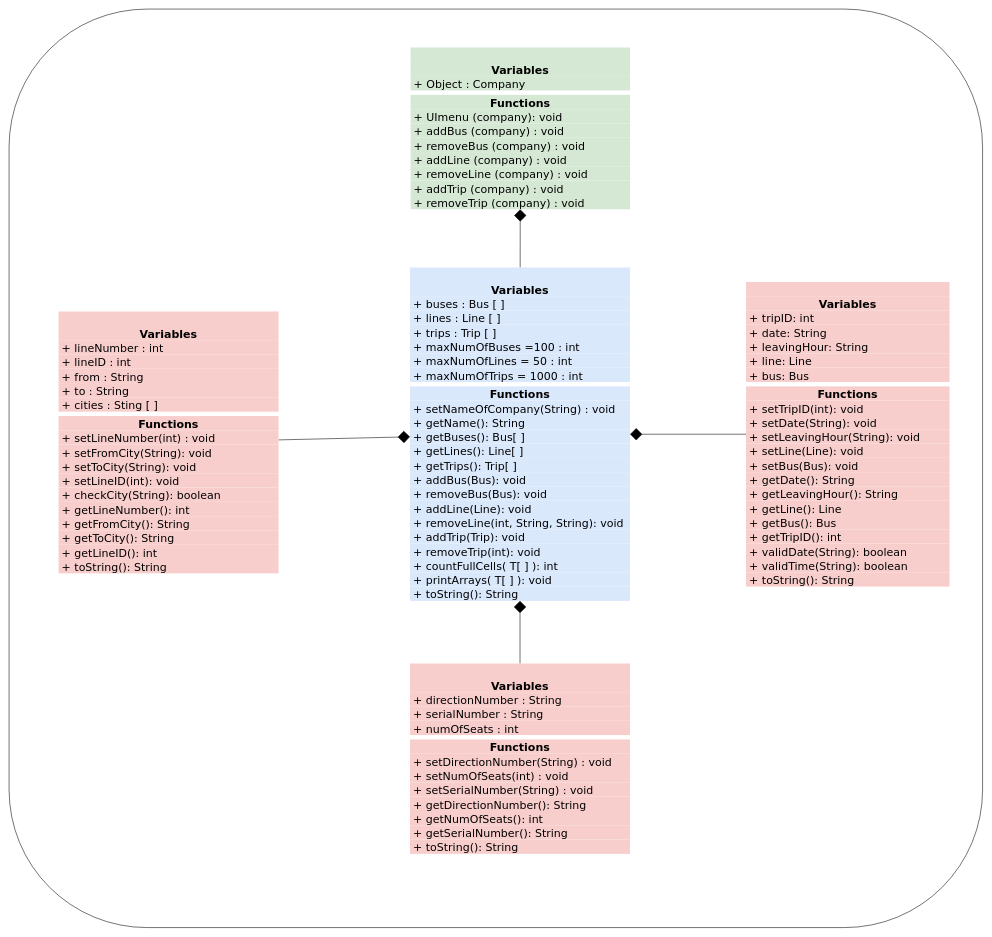
This 992x937 diagram has some shape labels left out. The shapes that lost their labels are listed below. From the top down, each one's box as (x1, y1, x2, y2) in pixels, then its label:
(410, 47, 630, 209): App.java
(58, 311, 278, 573): Line.java
(410, 267, 630, 601): Company.java
(746, 282, 949, 586): Trip.java
(410, 663, 630, 854): Bus.java
